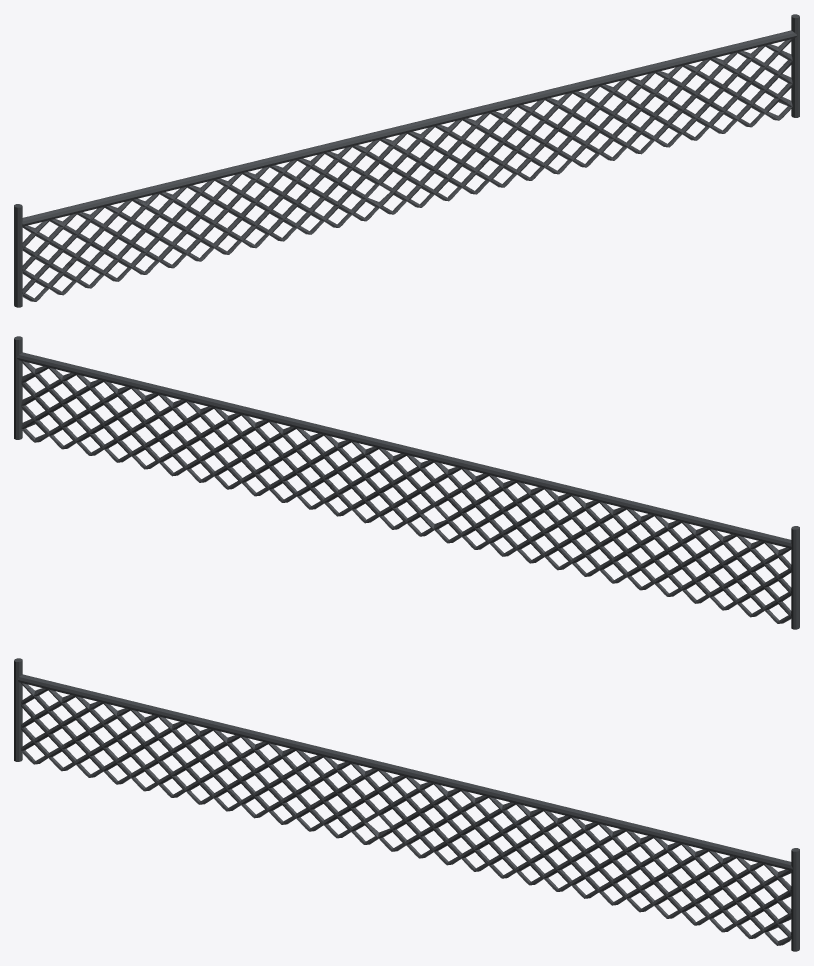
The model's file is fenceBack.fbx.
3 renders of one model, top to bottom at view 1: azimuth 30°, elevation 25°; view 2: azimuth 150°, elevation 25°; view 3: azimuth 330°, elevation 25°, orthographic.
Parts seen in each view (by area): view 1: fenceBack; view 2: fenceBack; view 3: fenceBack.
Boxes of the visible parts, x1,y1,x2,y2 form: fenceBack: [14, 14, 799, 307]; fenceBack: [14, 336, 799, 629]; fenceBack: [14, 658, 799, 951].
Bounding box in the file's own units: 1521 × 185 × 16.06.
